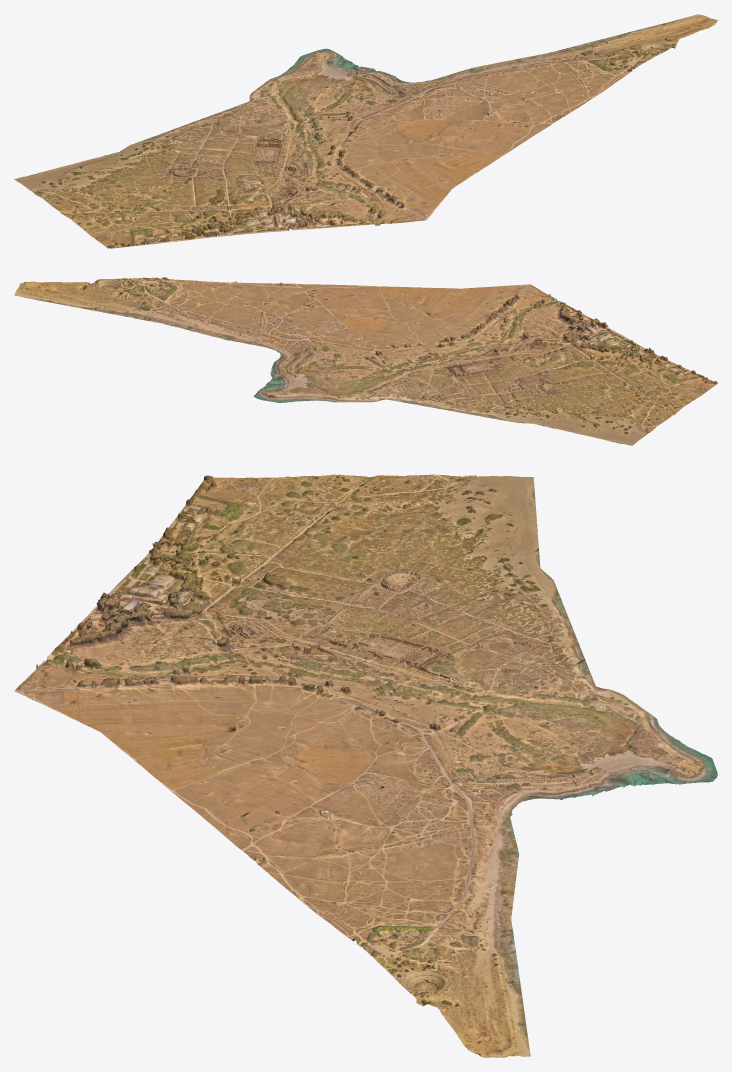
The picture shows the model from 3 angles, top to bottom: view 1: azimuth 30°, elevation 25°; view 2: azimuth 150°, elevation 25°; view 3: azimuth 270°, elevation 25°; orthographic projection. The views are drawn at different scales.
Parts seen in each view (by area): view 1: LBY_002_M1_LeptisMagnaGeneral; view 2: LBY_002_M1_LeptisMagnaGeneral; view 3: LBY_002_M1_LeptisMagnaGeneral.
Boxes of the visible parts, x1,y1,x2,y2 form: LBY_002_M1_LeptisMagnaGeneral: [14, 14, 717, 248]; LBY_002_M1_LeptisMagnaGeneral: [14, 277, 717, 445]; LBY_002_M1_LeptisMagnaGeneral: [14, 474, 717, 1057].
Bounding box in the file's own units: 2742 × 43.19 × 1401.
1 material, 1 textured.
